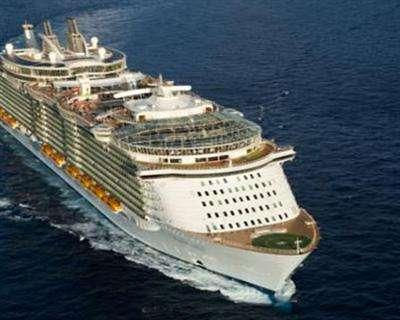youlun: (1, 18, 326, 297)
